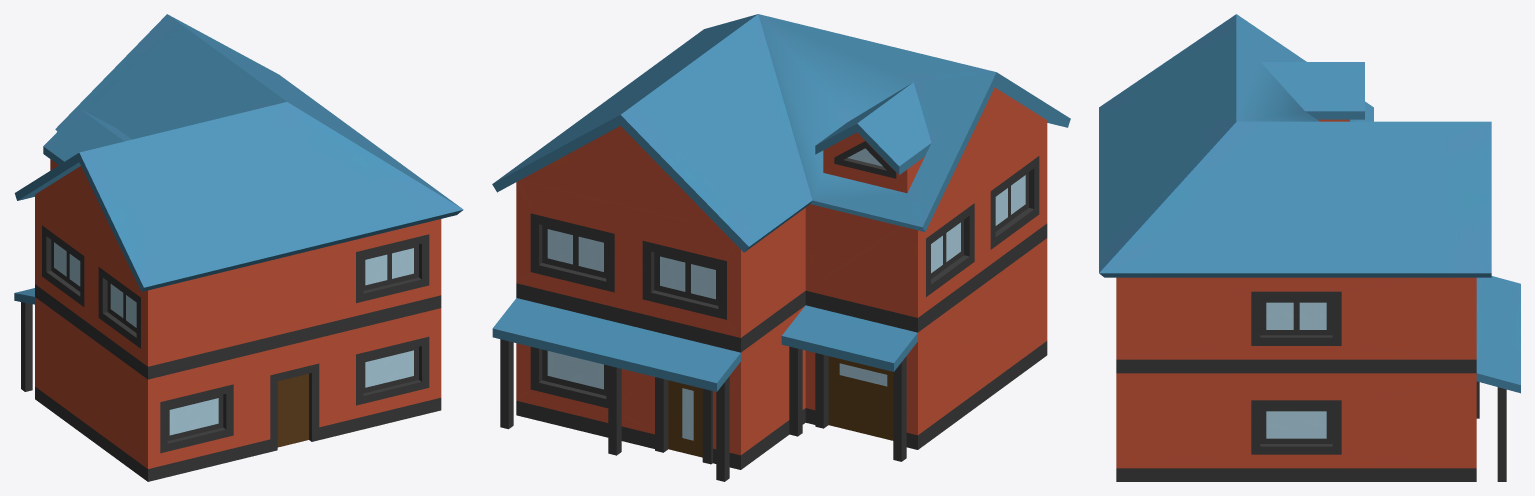
Rendered from house_type02.fbx.
3 views of the same model, side by side, from view 1: azimuth 30°, elevation 25°; view 2: azimuth 150°, elevation 25°; view 3: azimuth 270°, elevation 25° (orthographic). The views are drawn at different scales.
Parts seen in each view (by area): view 1: house_type02; view 2: house_type02; view 3: house_type02.
Part boxes in pixels (box(x1,y1,x2,y2)): house_type02: box(14, 14, 463, 481); house_type02: box(492, 14, 1070, 481); house_type02: box(1099, 14, 1520, 481).
Size of the model in its own units: 13.08 by 11.38 by 14.06.
Materials: 1 (1 with a texture image).
